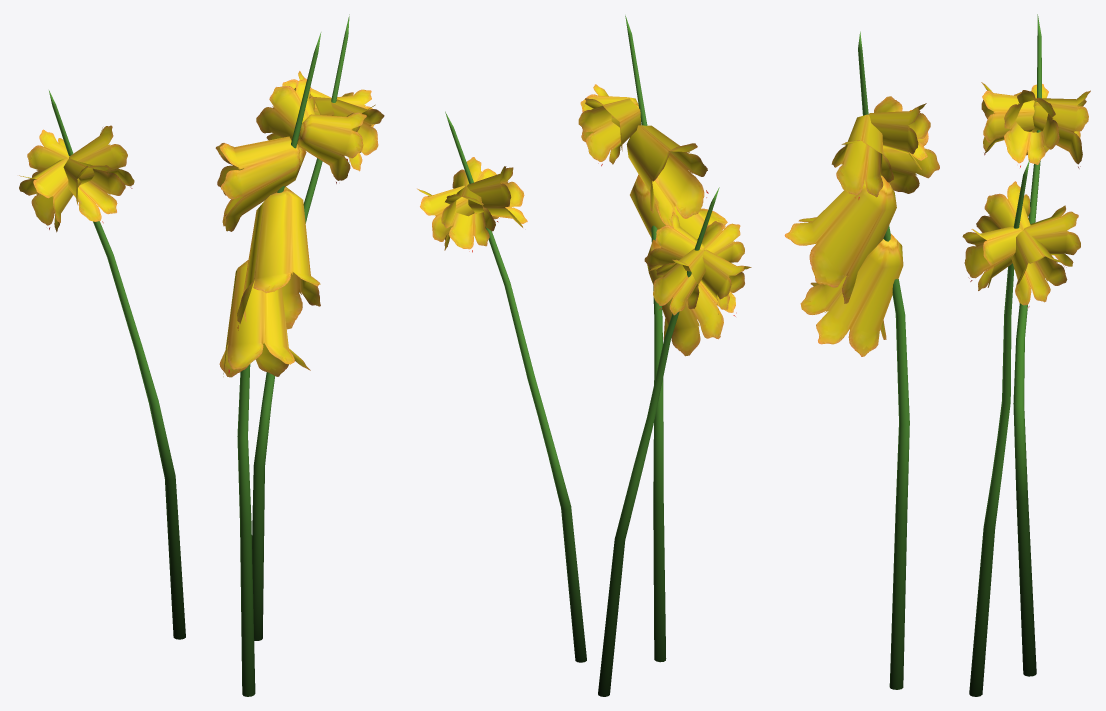
Rendered from flower-4-group-lo.glb.
3 renders of one model, left to right at view 1: azimuth 30°, elevation 25°; view 2: azimuth 150°, elevation 25°; view 3: azimuth 270°, elevation 25°, orthographic. The views are drawn at different scales.
Visible parts, largest first — view 1: Flower_4_Group; view 2: Flower_4_Group; view 3: Flower_4_Group.
Boxes of the visible parts, x1,y1,x2,y2 form: Flower_4_Group: [19, 14, 384, 696]; Flower_4_Group: [417, 15, 751, 696]; Flower_4_Group: [784, 14, 1090, 696].
Bounding box in the file's own units: 1.88 × 3.34 × 1.37.
2 materials, 2 textured.
